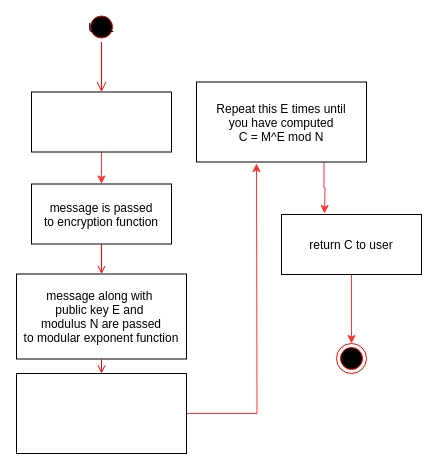
Image size: 438x470. Some labels were removed from this diagram. Here are the shapes that lost their labels. From the top down, the box of each, then its label:
(30, 91, 172, 152): user enters a message M
(16, 372, 186, 454): Modular Exponent uses MMM 5 times to compute M * M mod N
